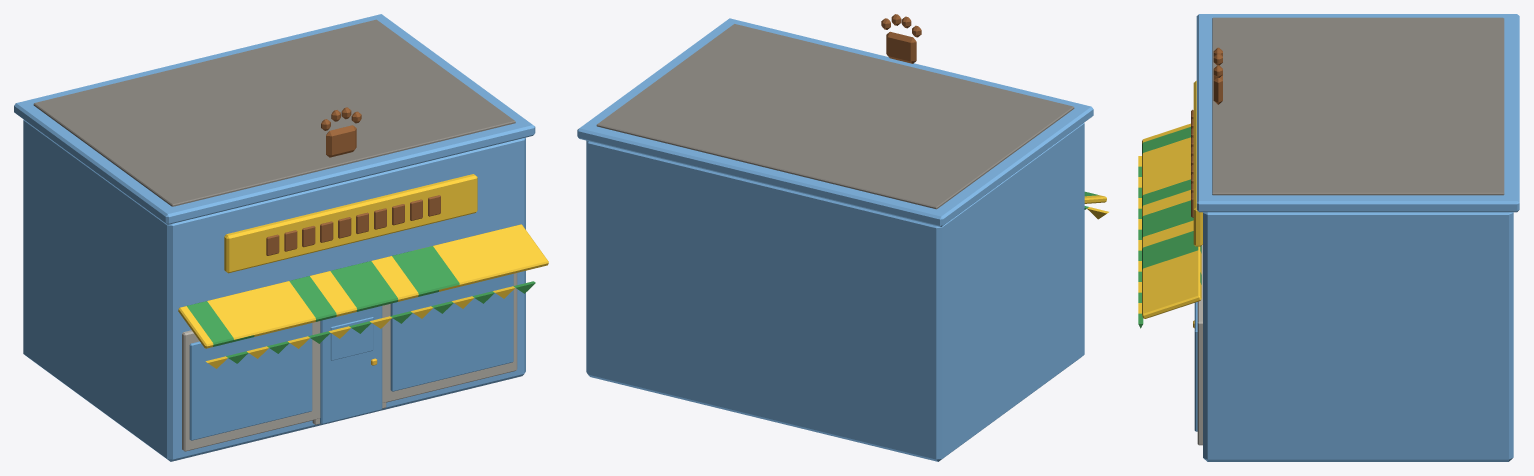
The model's file is PetShop.fbx.
3 renders of one model, left to right at view 1: azimuth 30°, elevation 25°; view 2: azimuth 150°, elevation 25°; view 3: azimuth 270°, elevation 25°, orthographic. The views are drawn at different scales.
Parts seen in each view (by area): view 1: PetShop; view 2: PetShop; view 3: PetShop.
Boxes of the visible parts, x1,y1,x2,y2 form: PetShop: [14, 14, 548, 461]; PetShop: [577, 14, 1108, 461]; PetShop: [1138, 14, 1519, 461].
Bounding box in the file's own units: 14.4 × 11.4 × 12.28.
1 material, 1 textured.
